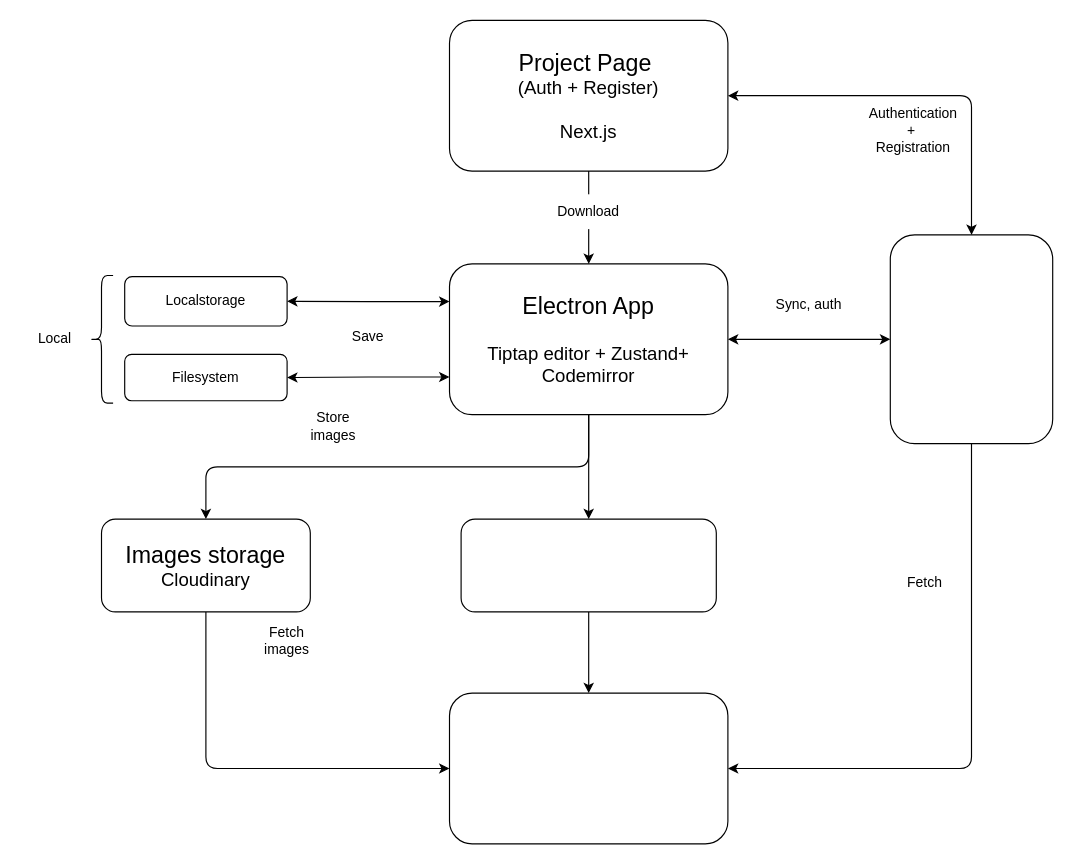
This 1073x864 diagram has some shape labels left out. The shapes that lost their labels are listed below. From the top down, each one's box as (x1, y1, x2, y2) in pixels, then its label:
(889, 234, 1053, 444): Database (Supabase) Users Auth
(460, 518, 716, 612): Database (Supabase) User's Posts
(448, 692, 728, 844): Blog Website Next.js
